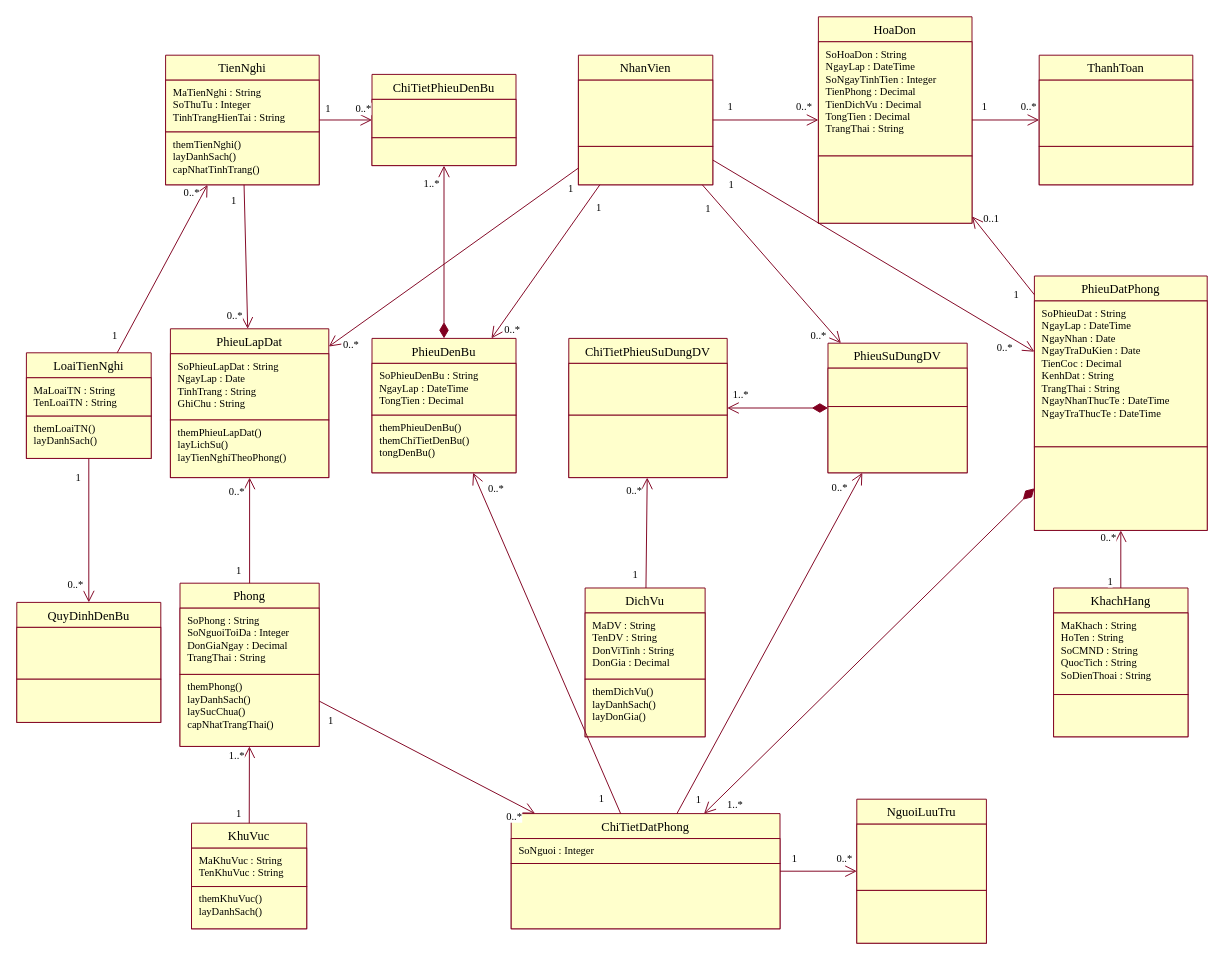
The diagram is 1224 pixels wide and 963 high, and some of its shapes have lost their labels. Here are the shapes that lost their labels. From the top down, the centre of each, then its label:
[443,118]: MucDoThietHai : String SoTien : Decimal
[645,112]: MaNV : String HoTen : String VaiTro : String SoDienThoai : String
[1115,112]: MaThanhToan : String NgayThanhToan : DateTime HinhThuc : String SoTien : Decimal
[443,151]: themChiTiet()
[645,165]: themNhanVien() layDanhSach()
[1115,165]: themGiaoDich() tongDaThanhToan()
[894,189]: themHoaDon() layTrangThai() capNhatTrangThai() tongDoanhThu()
[647,388]: SoLuong : Integer DonGia : Decimal ThanhTien : Decimal
[897,387]: SoPhieuSDDV : String NgaySuDung : Date
[647,446]: kiemTraDichVu() themChiTiet() congDonSoLuong()
[897,439]: timPhieu() taoPhieu() layLichSu() tongHopTheoDichVu()
[1120,488]: themPhieuDat() layTrangThai() capNhatTrangThai() layPhieuDangO() demPhieuDat()
[88,652]: MaQuyDinh : String MucDoThietHai : String MucDenBu : Decimal
[88,700]: themQuyDinh() layDanhSach()
[1120,715]: themKhach() layDanhSach()
[921,856]: MaNguoiLT : Integer HoTen : String SoCMND : String QuocTich : String
[645,896]: themChiTiet() kiemTraTrungLich() laySoNguoiDangKy() layChiTiet()
[921,916]: themNguoiLuuTru() demNguoiLuuTru() layDanhSach()
